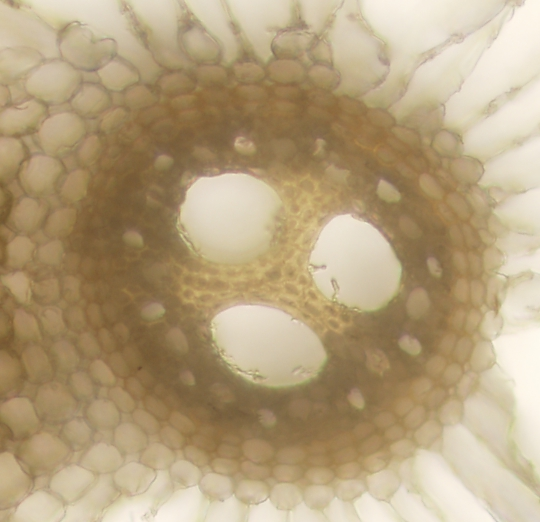lm: (210, 303, 327, 386), (177, 171, 281, 264), (307, 213, 402, 312)
